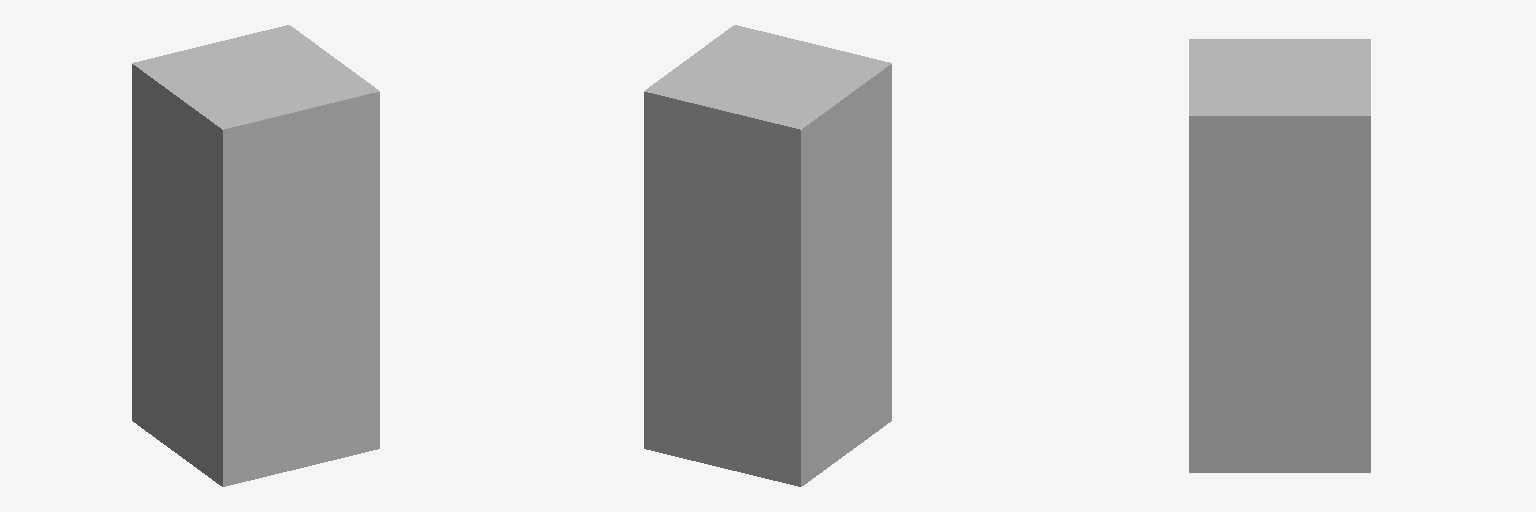
File: Down.obj
The picture shows the model from 3 angles: view 1: azimuth 30°, elevation 25°; view 2: azimuth 150°, elevation 25°; view 3: azimuth 270°, elevation 25°; orthographic projection.
Parts seen in each view (by area): view 1: Down; view 2: Down; view 3: Down.
Part boxes in pixels (x1,y1,x2,y2): Down: (132,25,379,486); Down: (644,25,891,486); Down: (1189,39,1370,472).
Size of the model in its own units: 0.6 by 1.3 by 0.6.